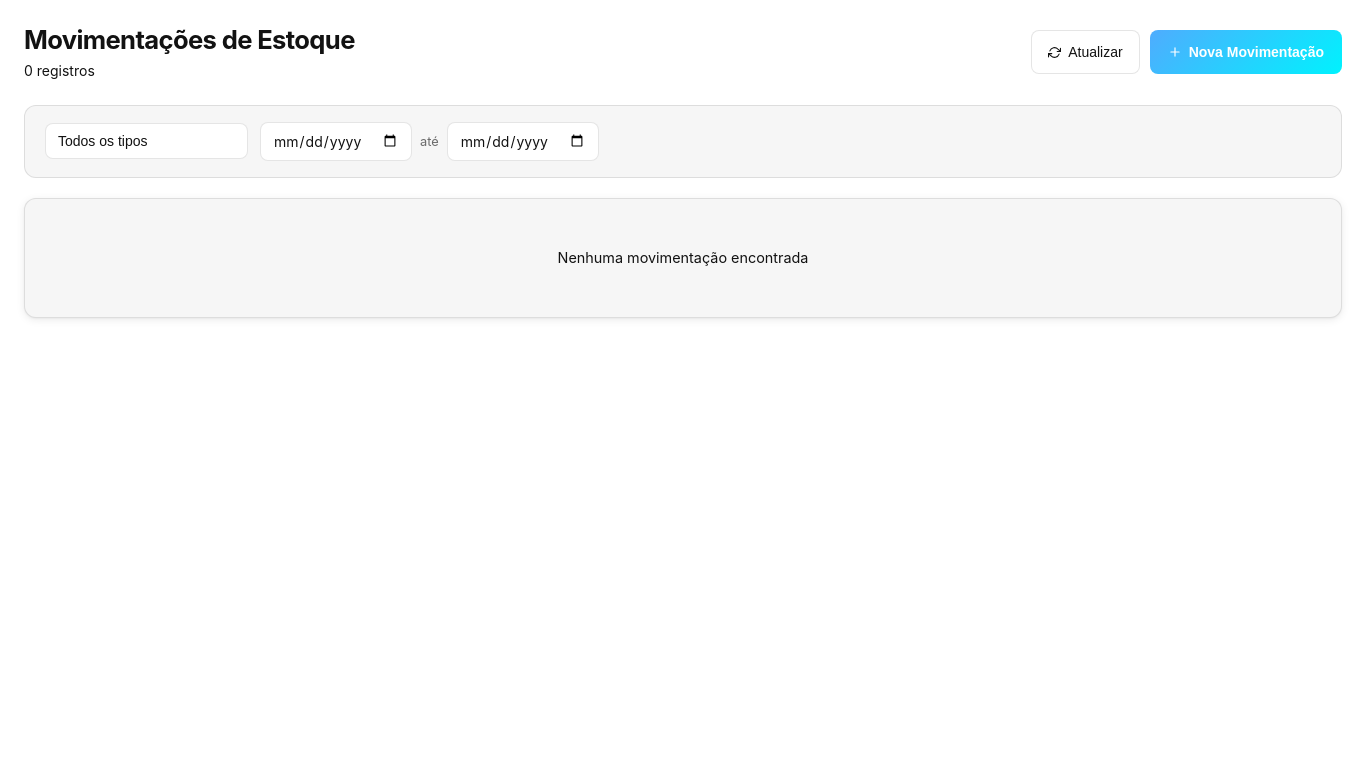
Scenario: elegibilidade sensivel ao tipo do movimento (fix round 1 da Task 9: descarte nao e barrado por vencimento) › em Perda, lote vencido sem liberacao (mas ATIVO) fica selecionavel e vira pre-selecao
The width and height of the screenshot is (1366, 768).
Click the button "Nova Movimentação": (1246, 52) [1150,30,1342,74]
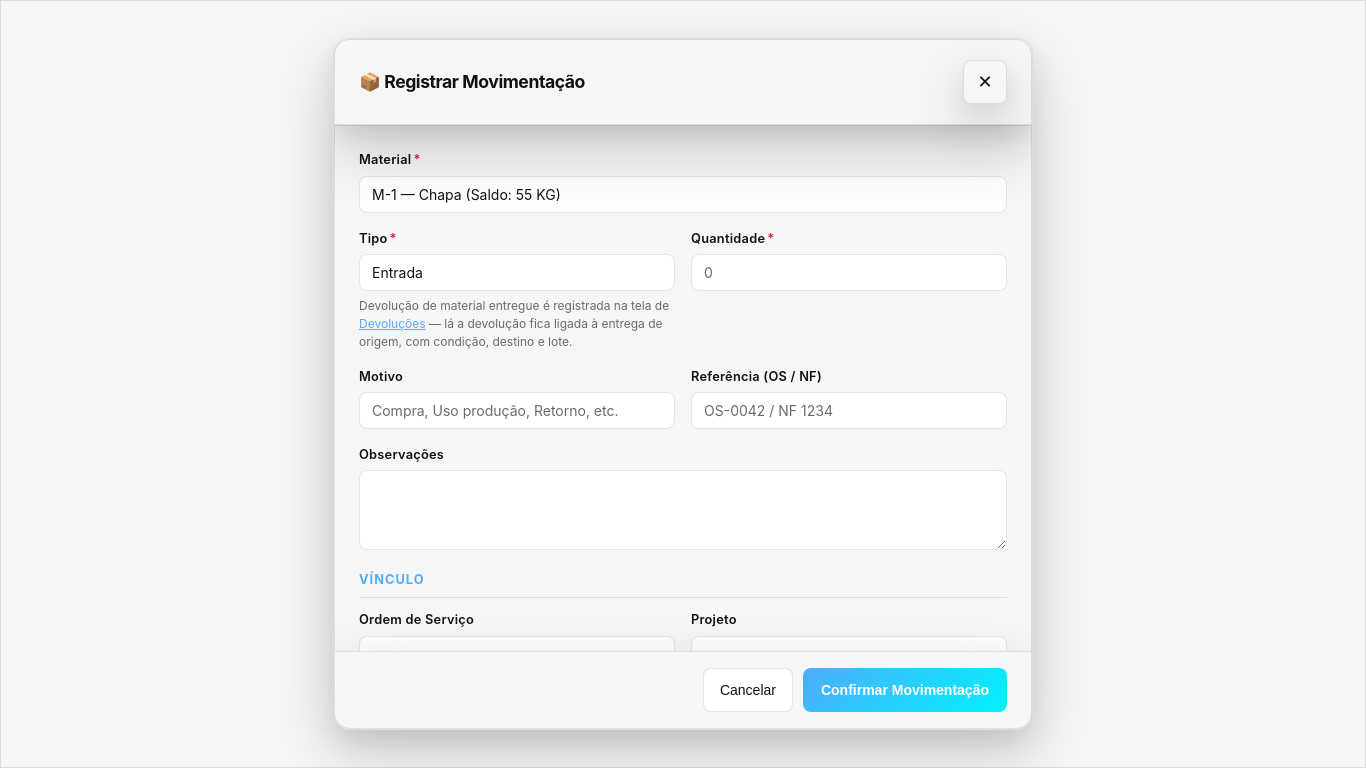
Select "M-1 — Chapa (Saldo: 55 KG)" in the 1st dropdown with class "almox-form-select": (683, 194) [359,176,1007,213]
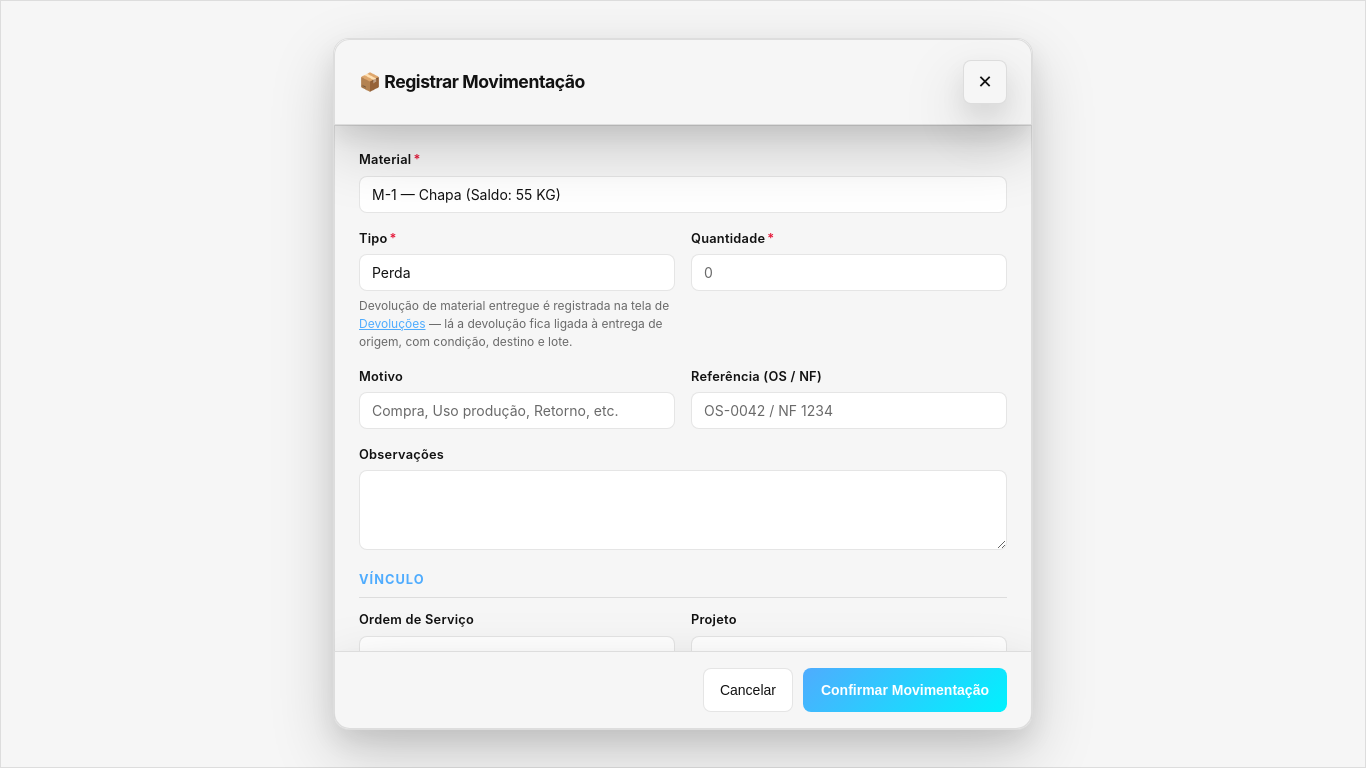
Select "Perda" in the dropdown with class "almox-form-select" below "Tipo": (517, 272) [359,254,675,291]
(page scrolled)
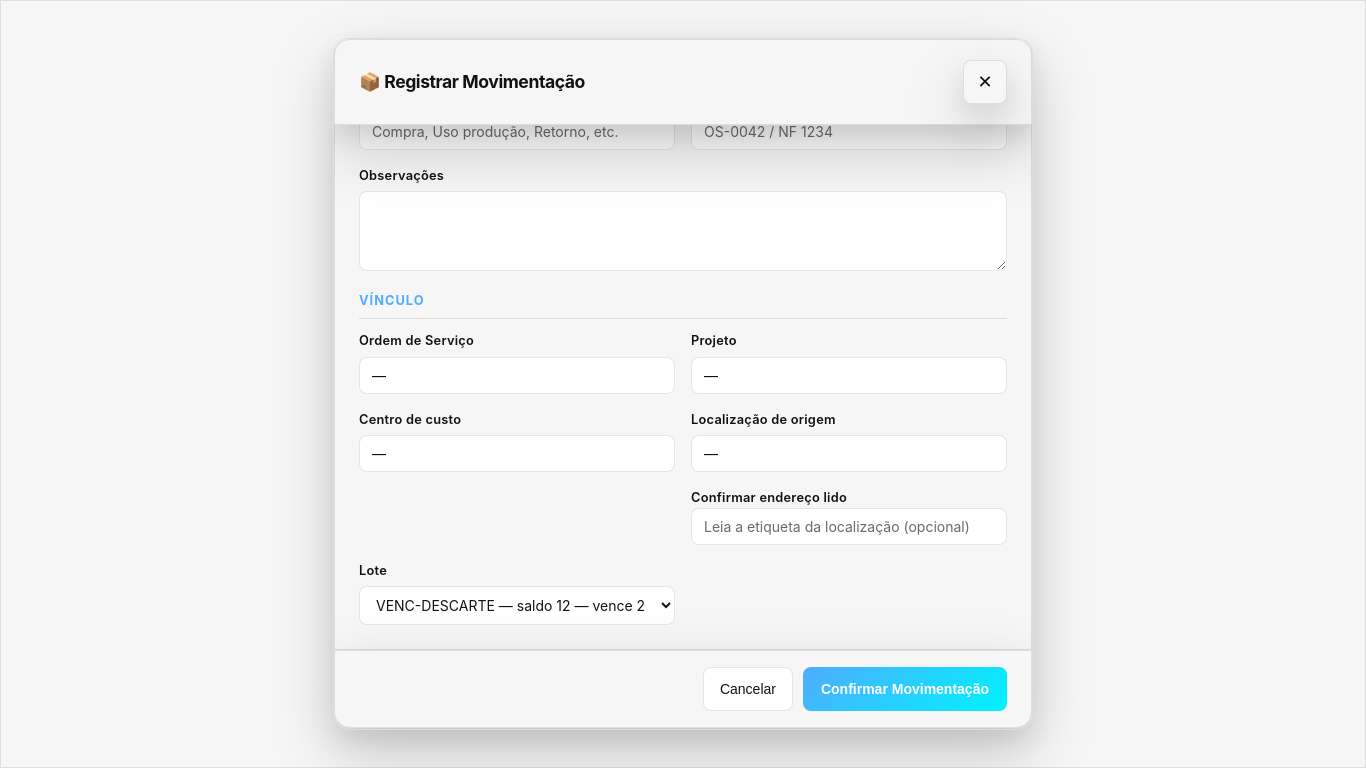
expect the dropdown with id "mov-lote" shows "VENC-DESCARTE — saldo 12 — vence 2018-01-01 (vencido)": met, box [359,586,675,625]
